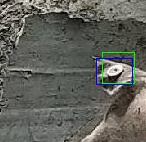text: (102, 52, 134, 83)
